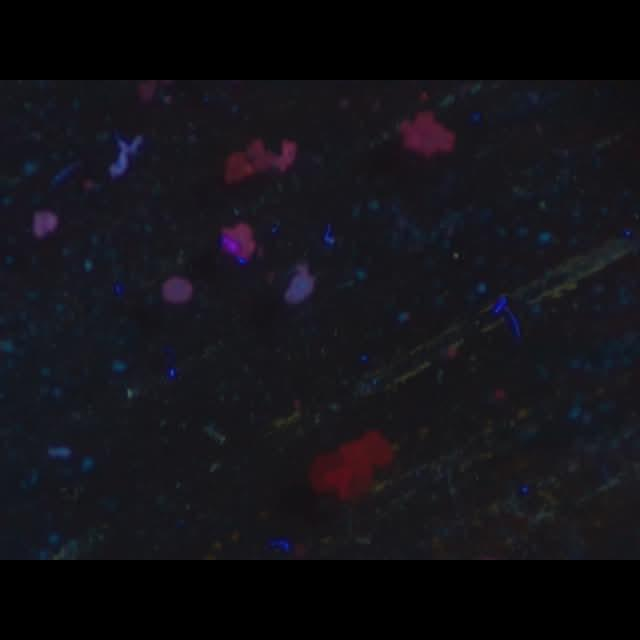Fragment: (224, 138, 298, 184)
